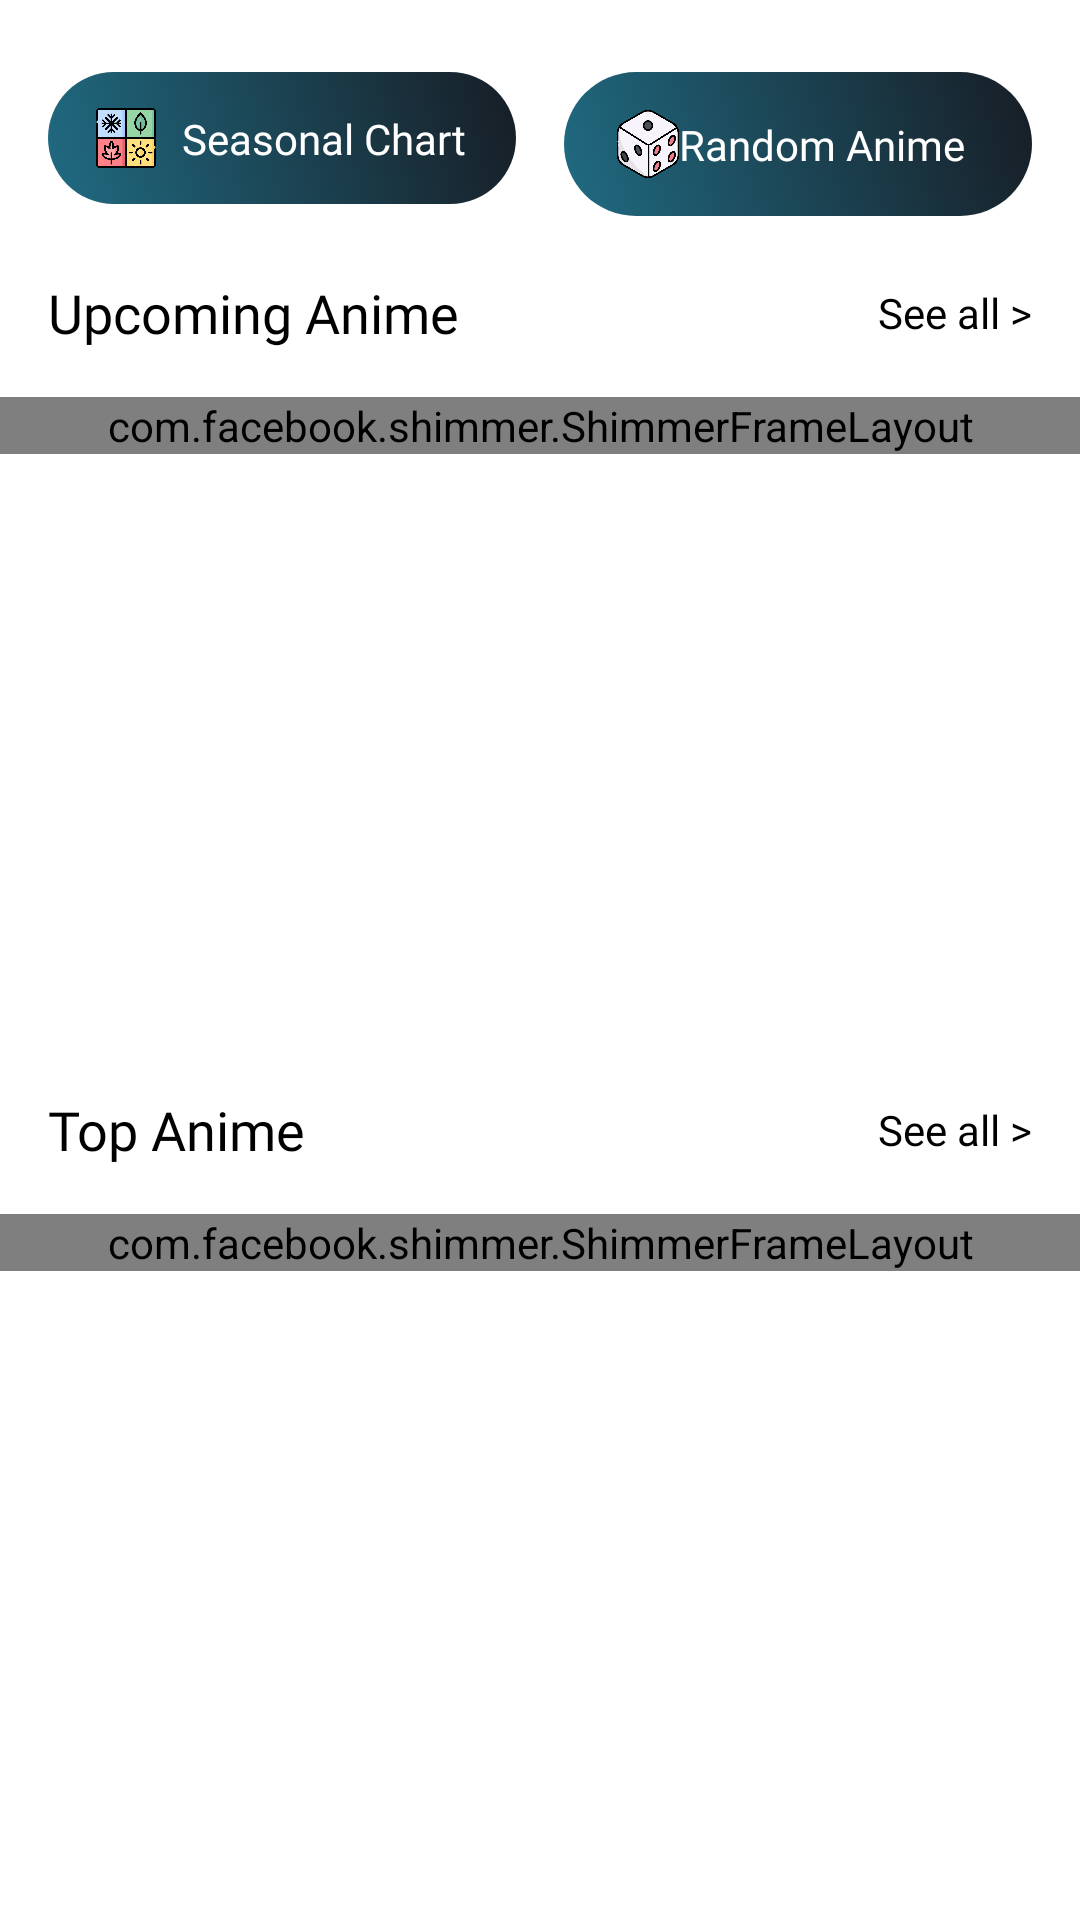

Icons on this 1080 x 1920 Android screen, each with the point to tap as (x=x, y=y):
dice: (x=648, y=144)
